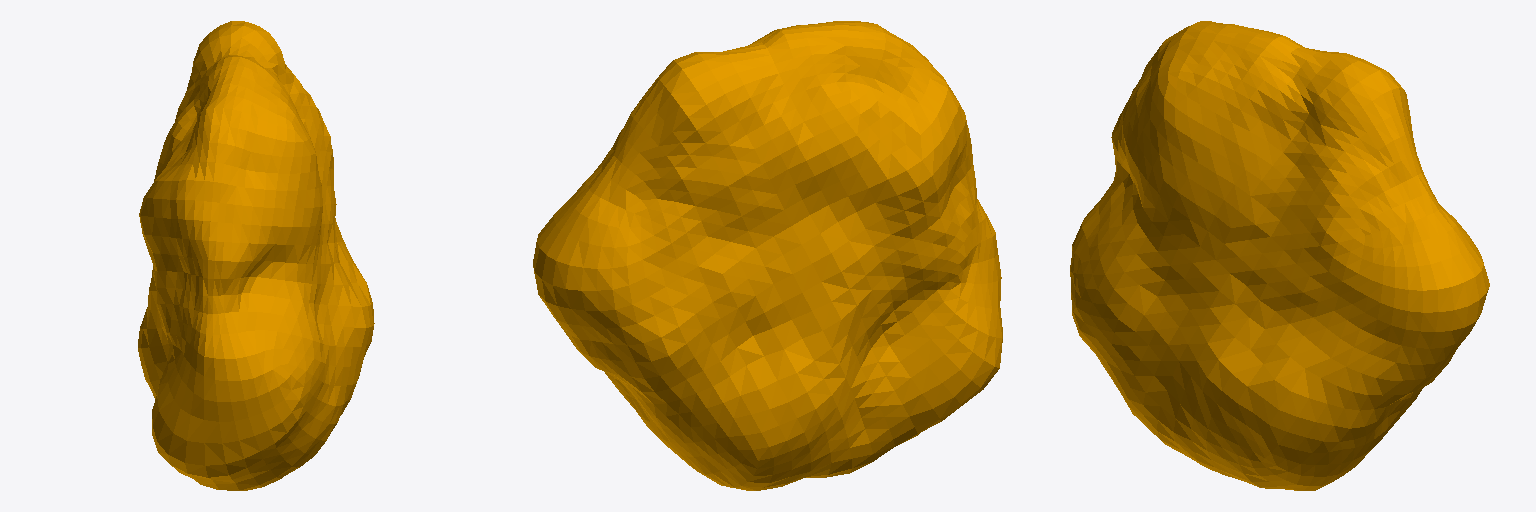
URDF robot description (rock):
<?xml version="1.0" ?>
<robot name="rock">
  <link name="rock">
    <inertial>
      <mass value="0.220"/>
      <origin rpy="0 0 0" xyz="0 0 0"/>
      <inertia ixx="0.000220" ixy="0" ixz="0" iyy="0.000220" iyz="0" izz="0.000220"/>
    </inertial>
    <collision name="rock_collision">
      <origin rpy="0 0 0" xyz="0 0 0"/>
      <geometry>
        <mesh filename="package://rocks/visual/102.dae" scale="1 1 1"/>
      </geometry>
    </collision>
    <visual name="rock_visual">
      <origin rpy="0 0 0" xyz="0 0 0"/>
      <geometry>
        <mesh filename="package://rocks/visual/102.dae" scale="1 1 1"/>
      </geometry>
    </visual>
  </link>
</robot>

--- Facts derived from the render (not from the file) ---
The picture shows the robot from 3 angles, left to right: view 1: azimuth 30°, elevation 25°; view 2: azimuth 150°, elevation 25°; view 3: azimuth 270°, elevation 25°; orthographic projection.
Robot: rock — 1 links, 0 joints (none); root link rock; default pose: all joints at 0.
Links seen in each view (by area): view 1: rock; view 2: rock; view 3: rock.
Link boxes in pixels (bbox=[...]): rock: bbox=[138, 21, 374, 490]; rock: bbox=[533, 21, 1002, 490]; rock: bbox=[1070, 21, 1489, 490].
Size in the robot's own frame: 0.0506 by 0.0599 by 0.068 metres.
1 mesh visuals loaded from 1 distinct referenced files (1 Collada DAE).